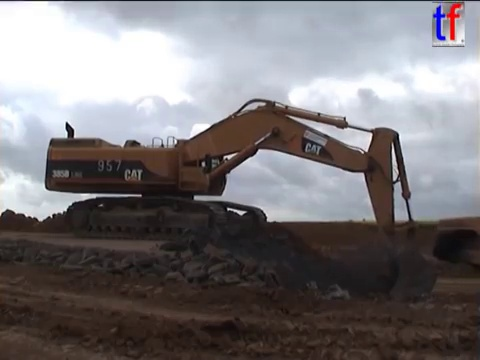excavator: (41, 96, 441, 307)
truck: (430, 212, 480, 272)
